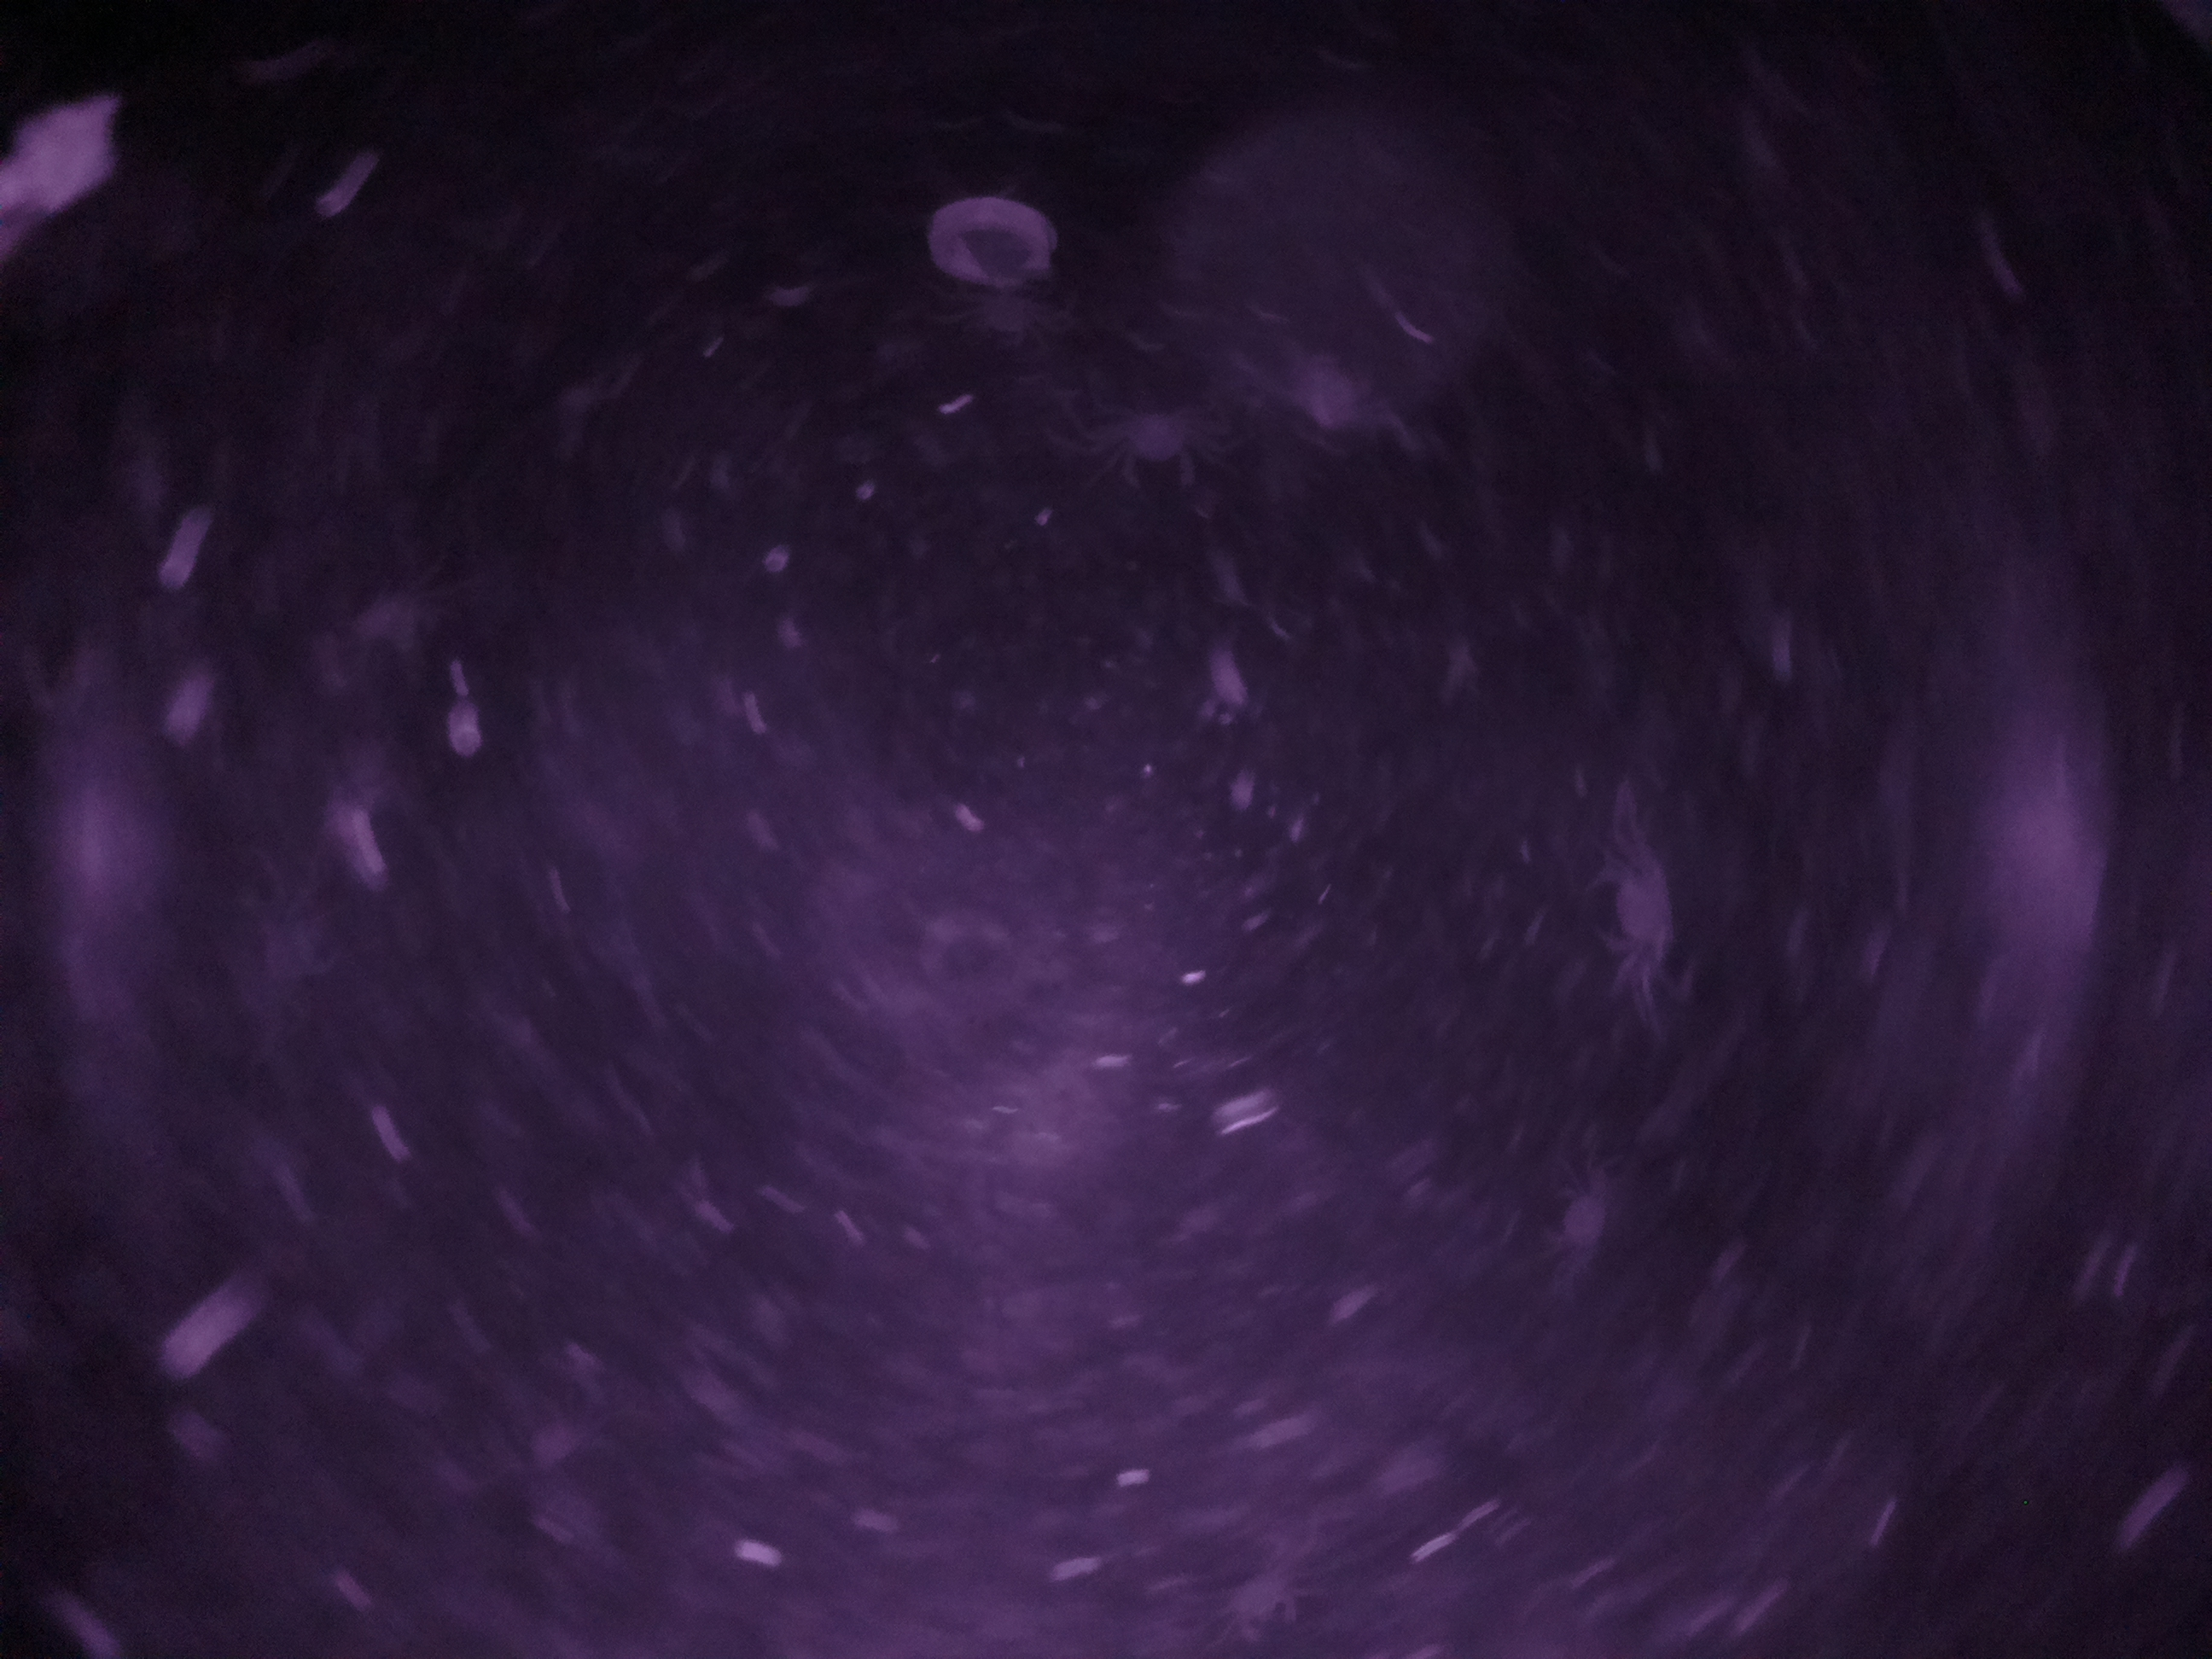Crab: (1561, 828, 1710, 988)
